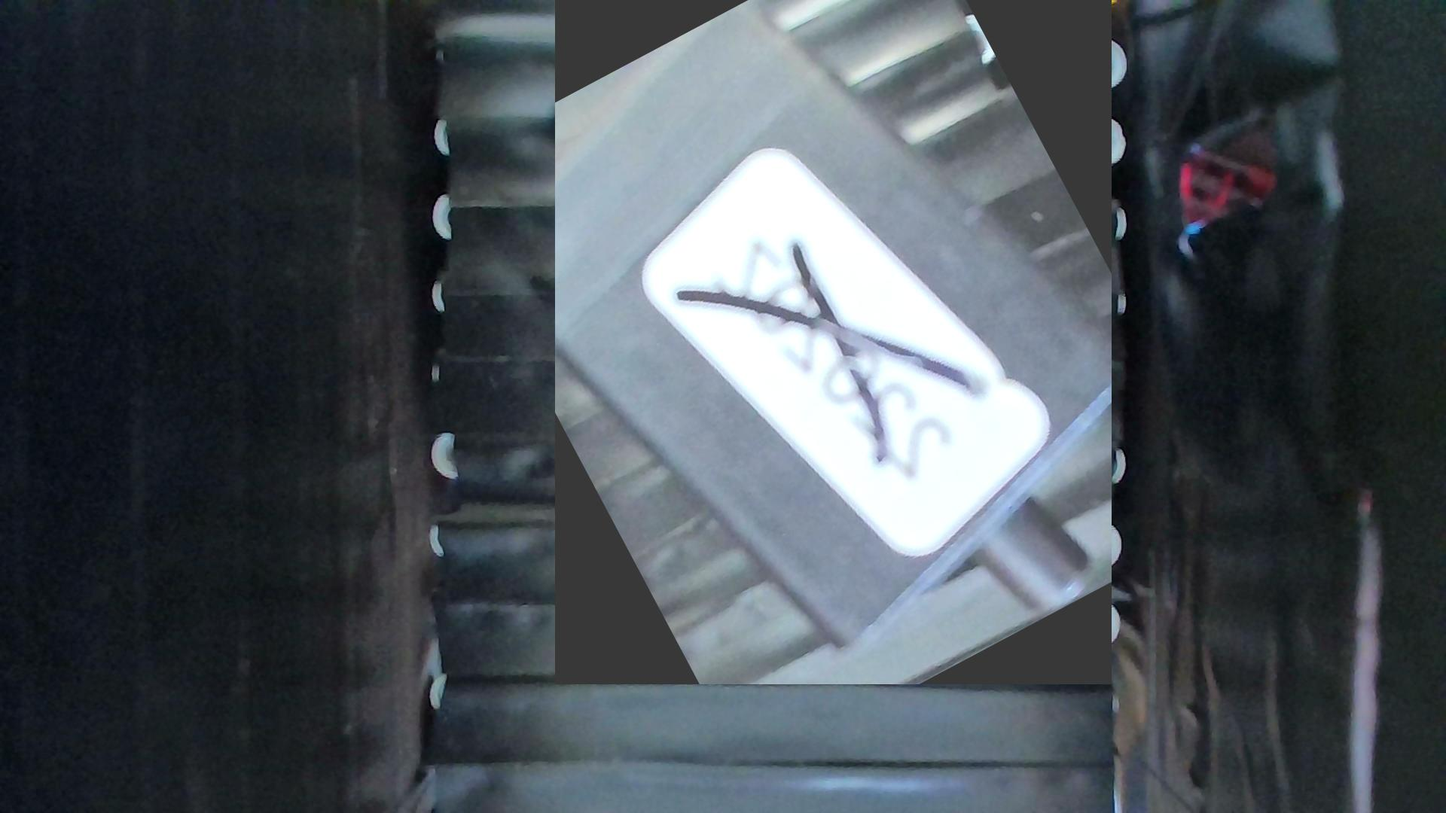motor: (555, 0, 1112, 684)
